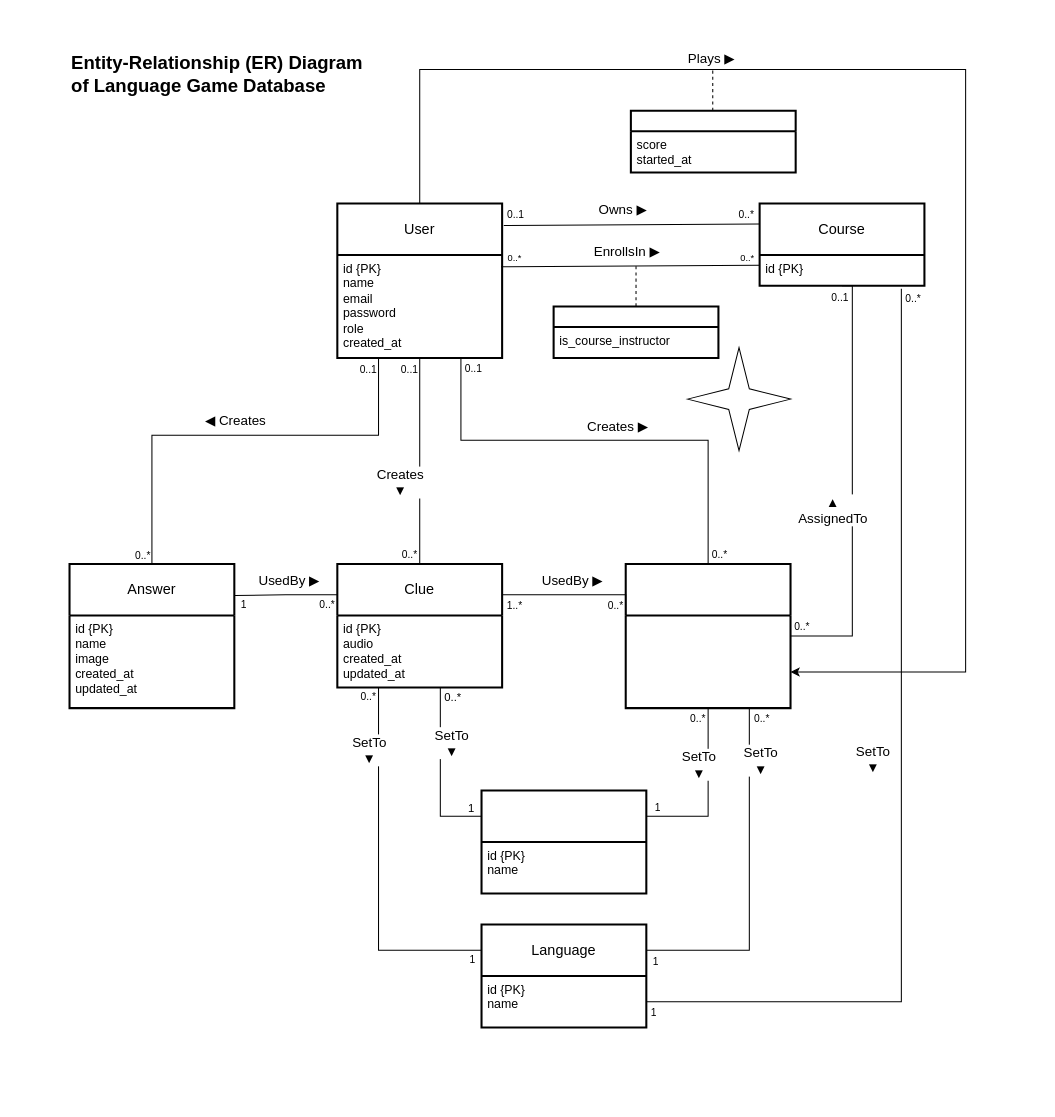
Image size: 1055x1117. Some labels were removed from this diagram. The shapes that lost their labels are listed below. From the top down, each one's box as (x1, y1, x2, y2) in pixels, then its label:
(686, 347, 791, 451): put plays here
(624, 562, 791, 709): Game
(625, 615, 790, 708): id {PK} num_items due_at created_at updated_at
(480, 789, 647, 894): Difficulty
